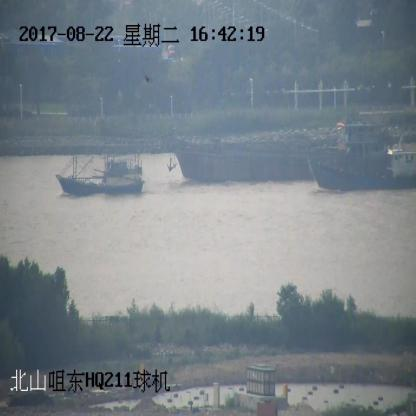Fishing Boat: (309, 148, 416, 193), (55, 150, 142, 195)
